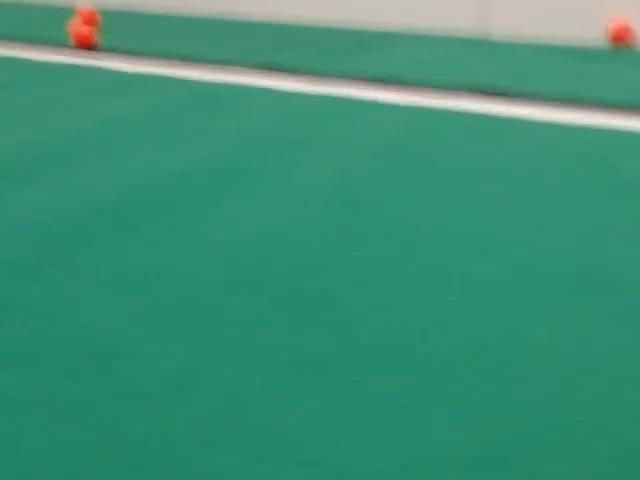Ball: (68, 18, 98, 49), (605, 19, 636, 48), (75, 3, 100, 27)
